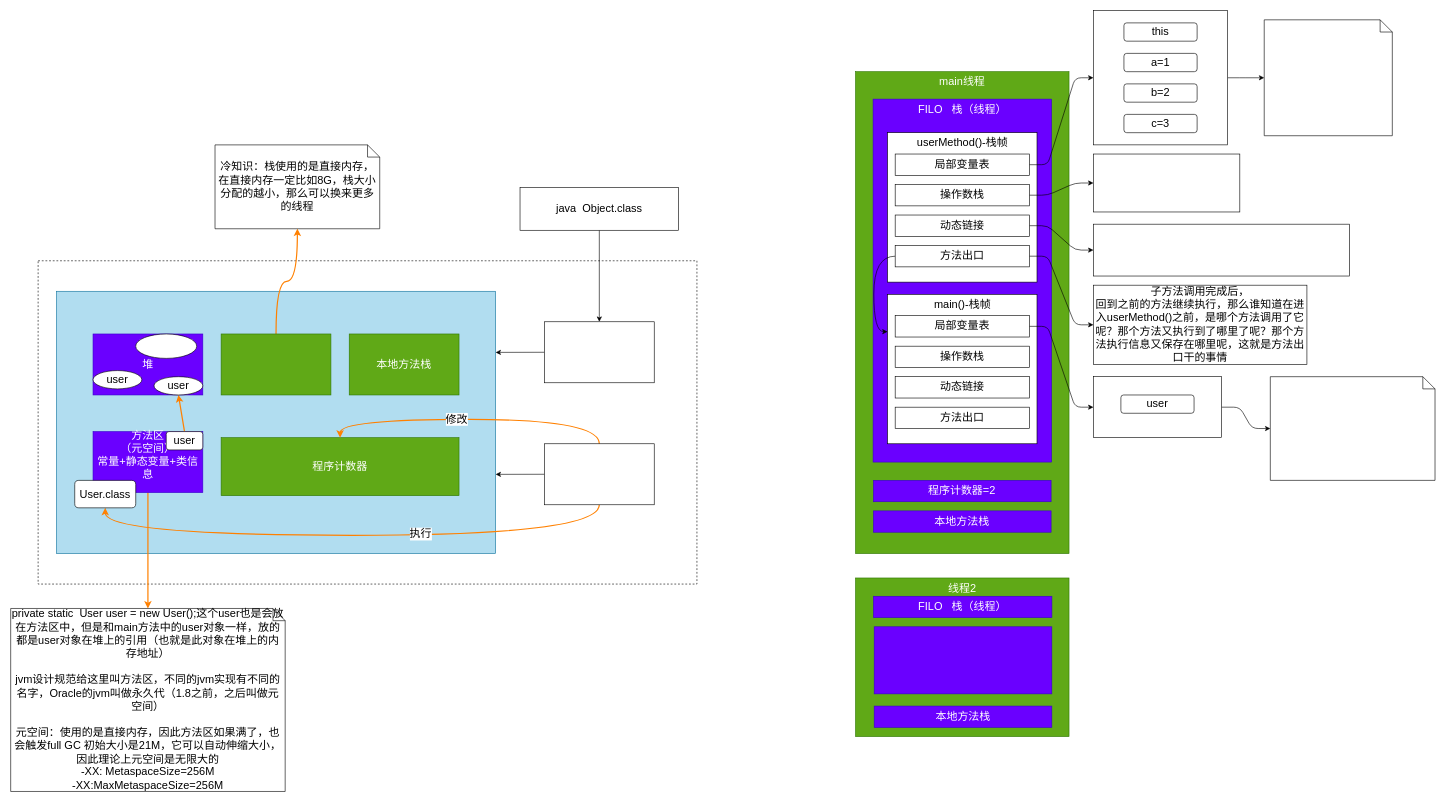
Image size: 1446x803. Some labels were removed from this diagram. The centre of each missing label's shape, as x and y in pixels:
"main方法中的局部变量表有点不一样，new 出来的对象 （比如User）是放在堆上的，这里的user存放的是堆上User对象的地址" goes at pixel 1352 428.
"User的class对象" goes at pixel 166 345.
"字节码执行引擎" goes at pixel 599 474.
"就是用来操作数字的 做加减乘除的，他跟局部变量表什么关系嘞，就是他从局部变量表里面拿出数据，计算得值再放入局部变量表" goes at pixel 1166 182.
"把符号引用，变为直接引用（比如一个compute()，就把compute这个符号引用所代表的转化为，compute()方法内容存放在方法区中的内存地址）" goes at pixel 1221 250.
"栈（线程）" goes at pixel 963 660.
"栈（线程） -Xss128k 默认1M" goes at pixel 276 364.
"每个方法中不是会定义 a=1,b=2,c=3这种局部变量吗 所以啊，这地方就是用来放这玩意的， 数据结构就是一张表" goes at pixel 1328 77.
"类装载子系统" goes at pixel 599 352.
